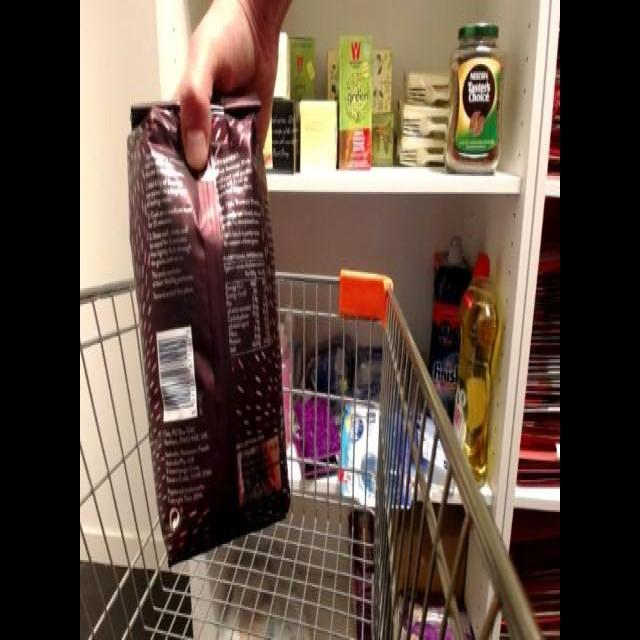Tida: (123, 89, 294, 569)
